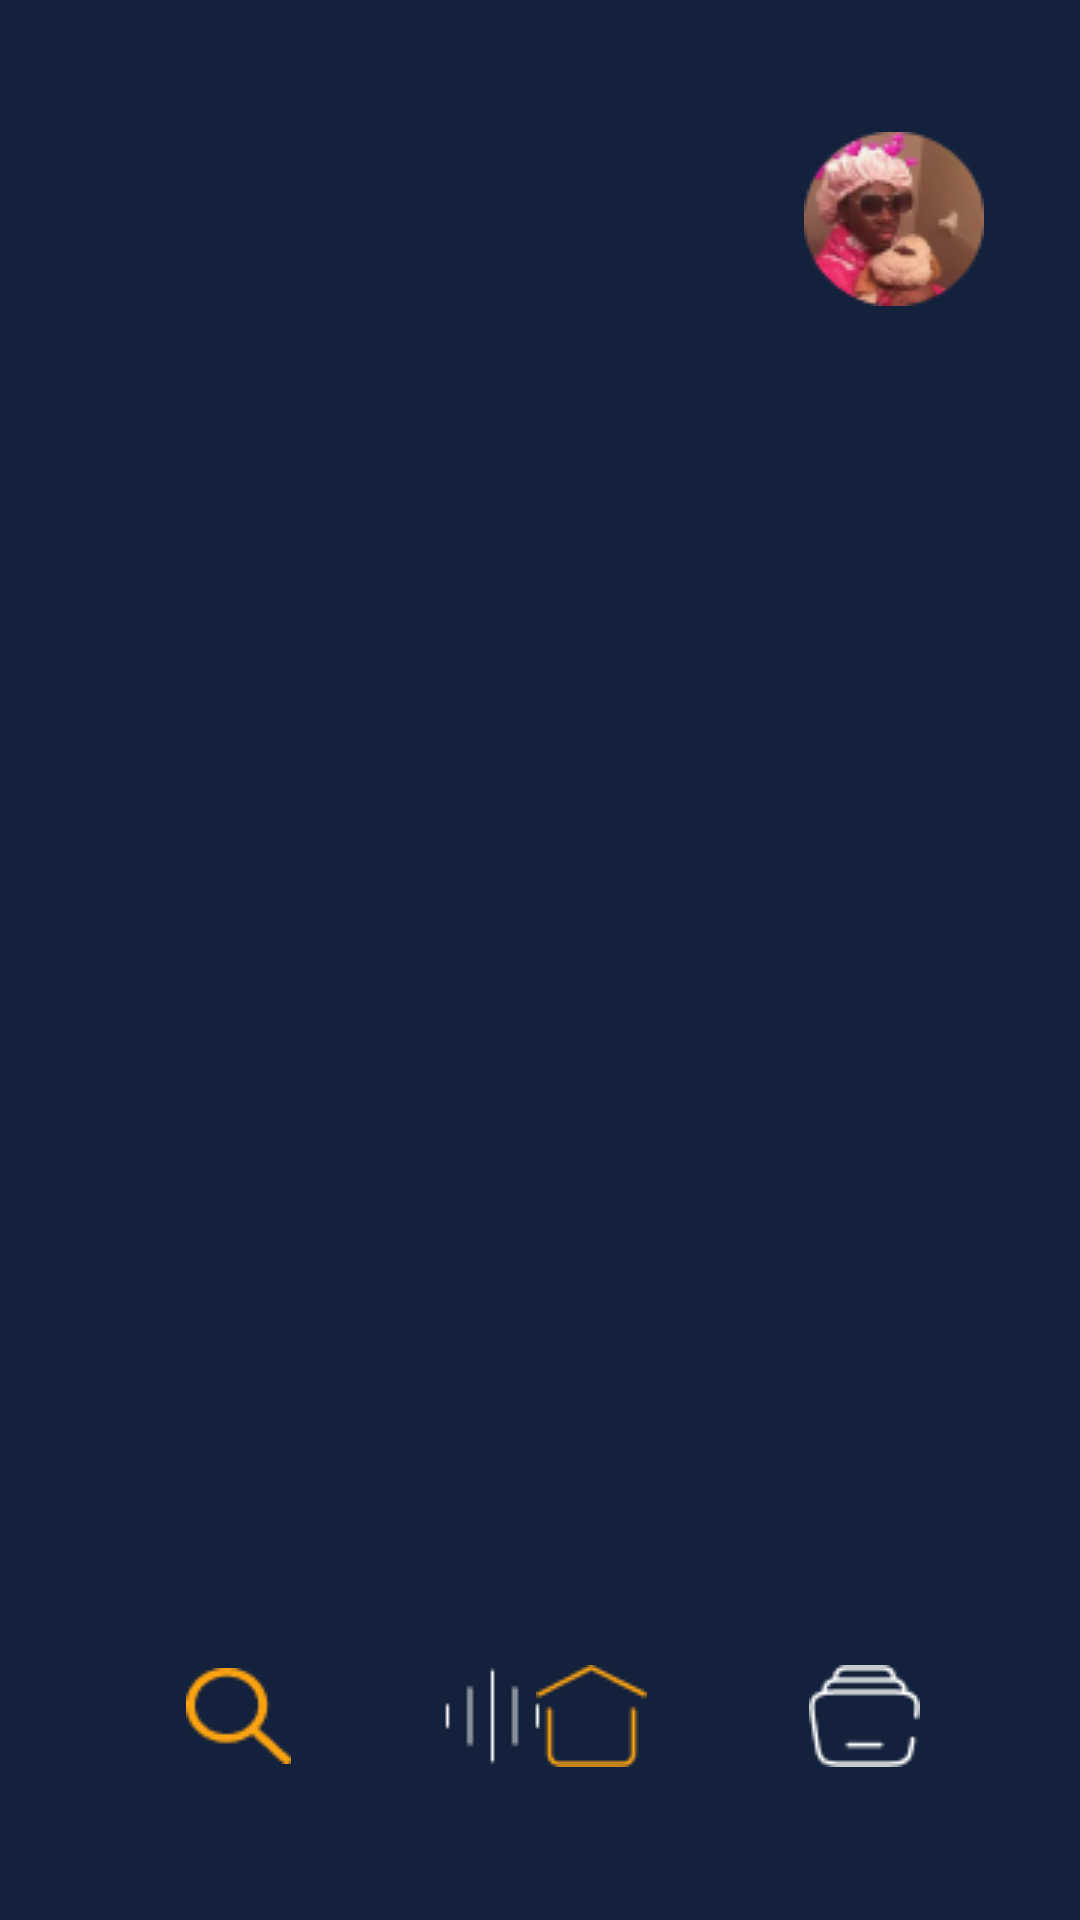

Icons on this 1080w x 1920h Android screen, each with its box as BBox(x1, y1, x2, y2):
equalizer button for the search page: BBox(445, 1668, 540, 1764)
library button for the search page: BBox(809, 1665, 920, 1767)
search button for the search page: BBox(186, 1668, 291, 1764)
